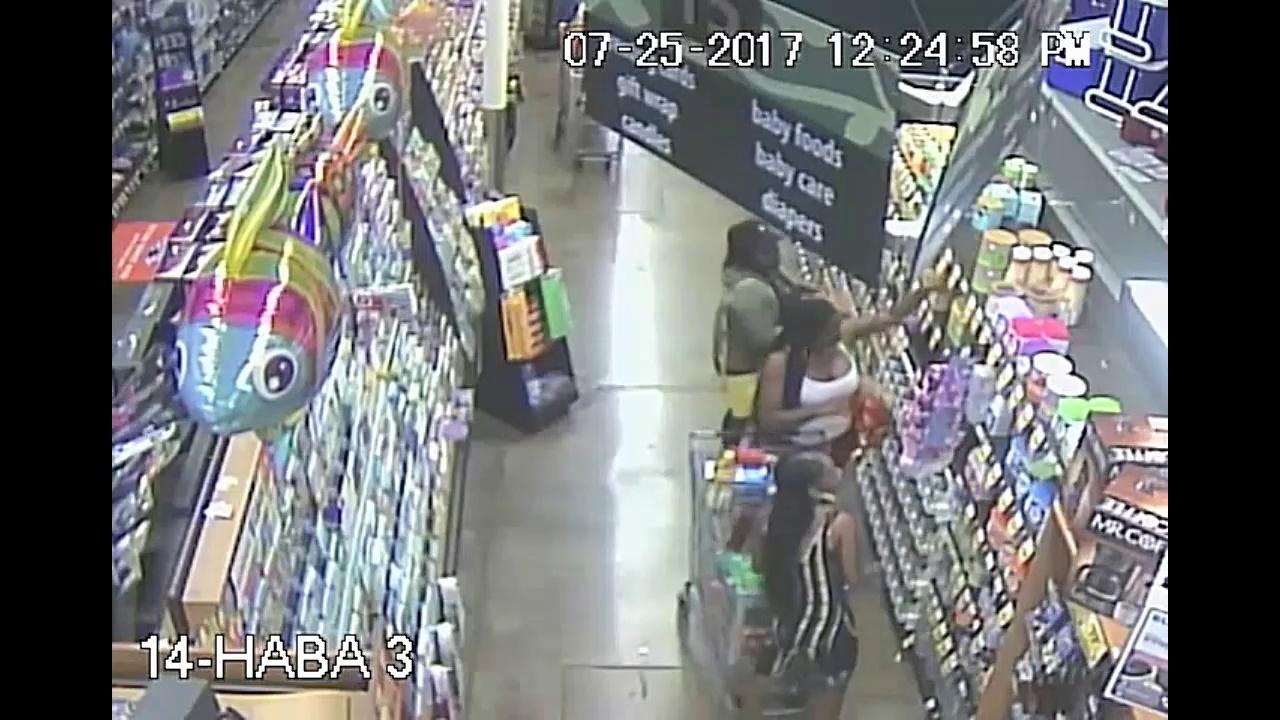Regular: (740, 434, 906, 720), (743, 264, 986, 444), (693, 204, 798, 313)
Shopping-Cart: (689, 424, 745, 547)
